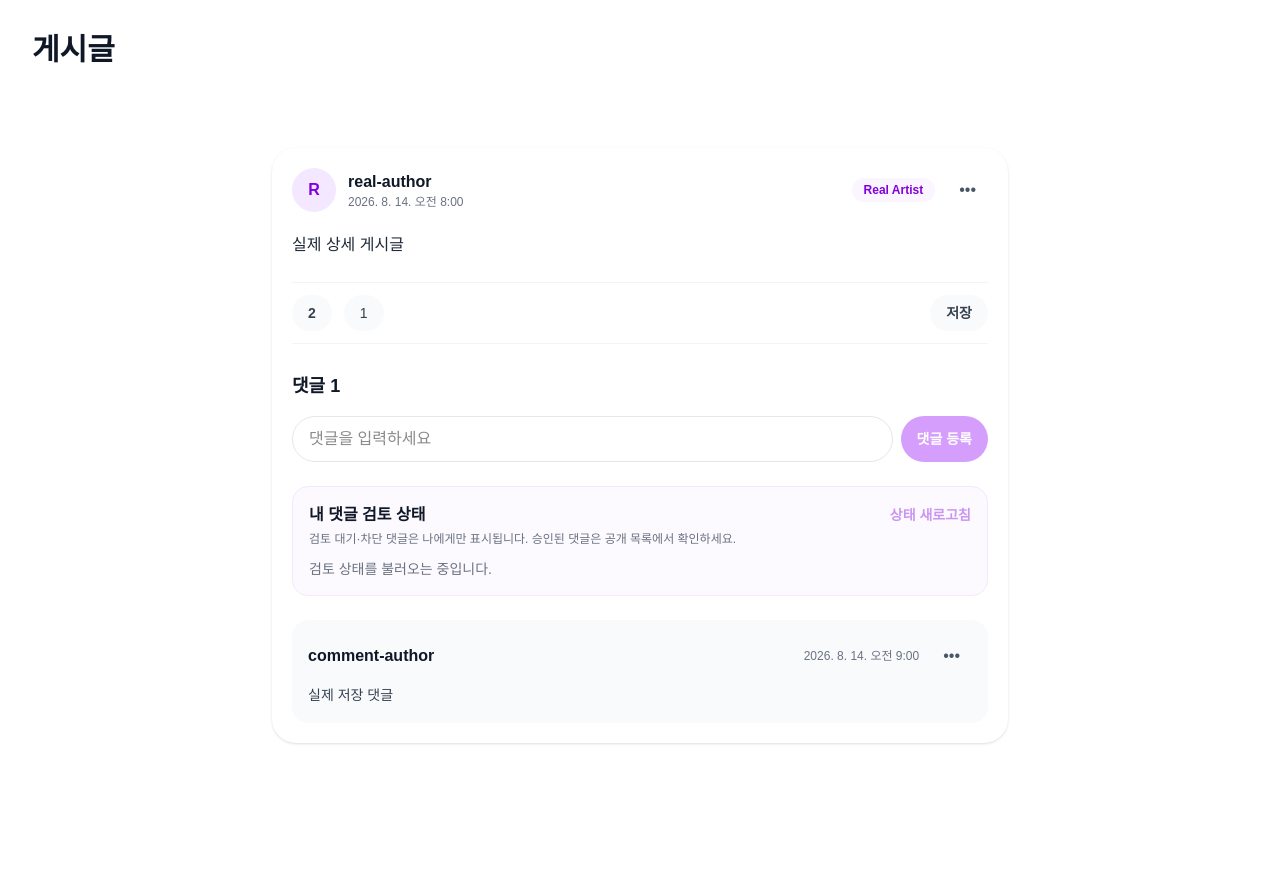
PostDetailPage › preserves previous post and draft when moderation rejected
Expected: the text "실제 상세 게시글" is shown, [292,236,404,253]
Click the heading named "게시글 작업" at (968, 190), box [959,181,976,198]
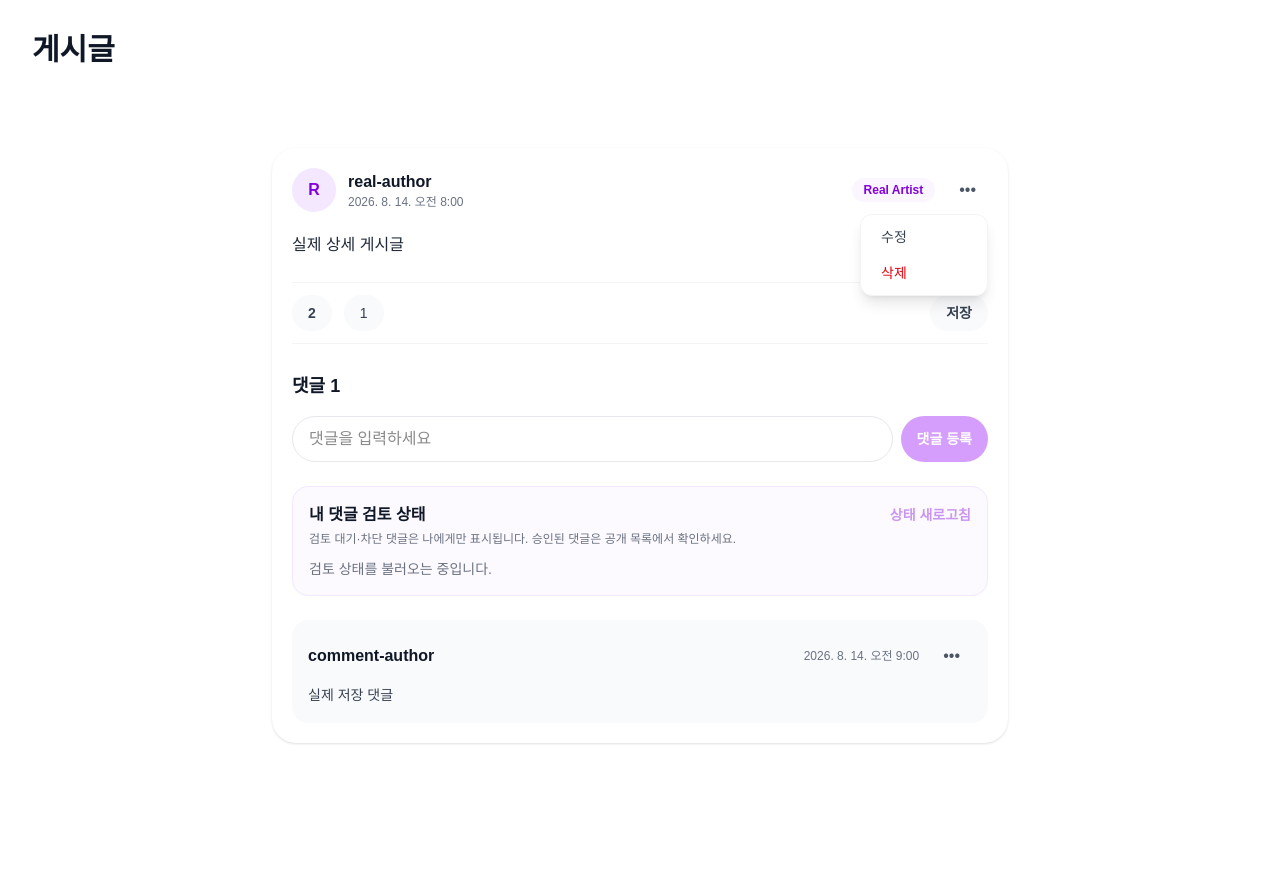
Click the button "수정" at (924, 237), box [865,219,983,255]
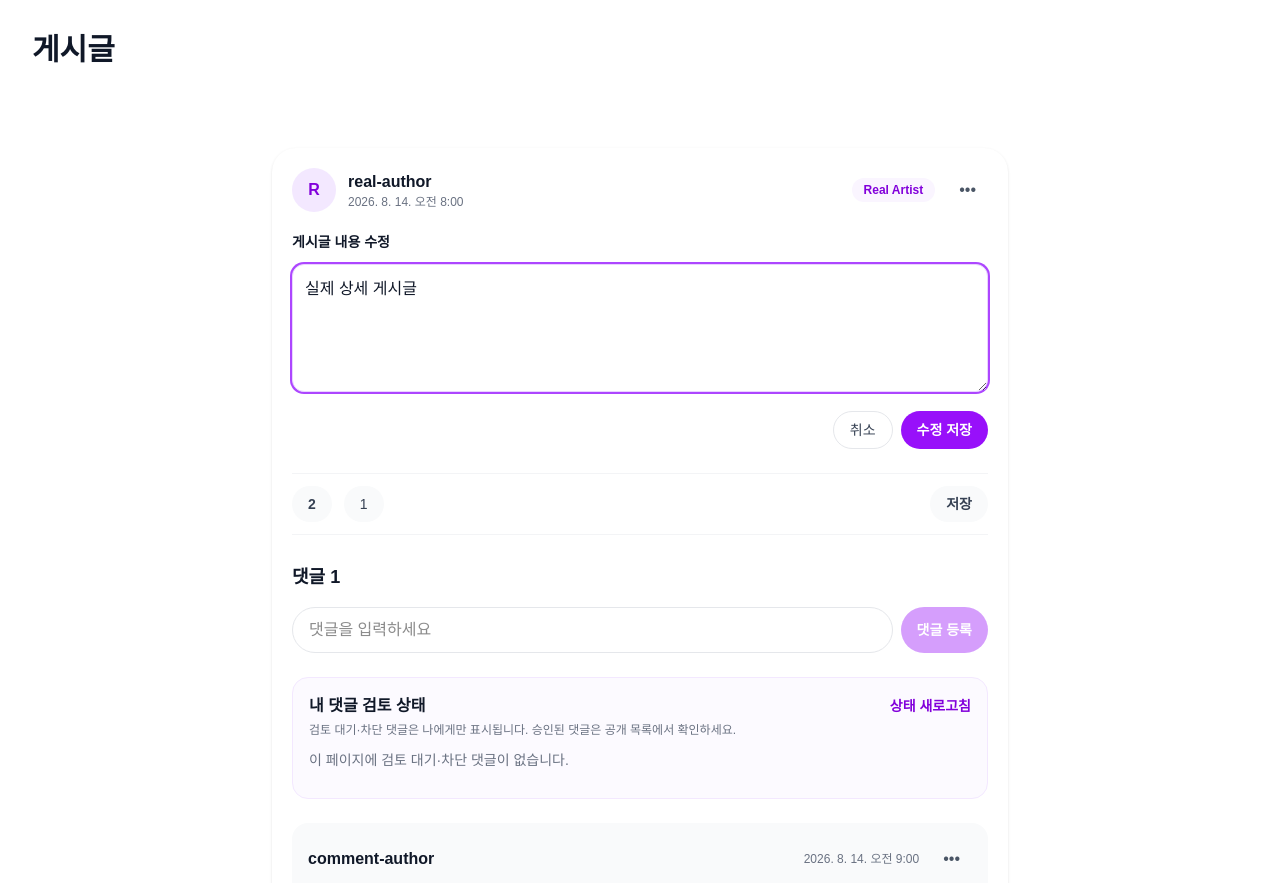
Replace the text in the text box labelled "게시글 내용 수정" with "거부된 수정" at (640, 328), box [292,264,988,392]
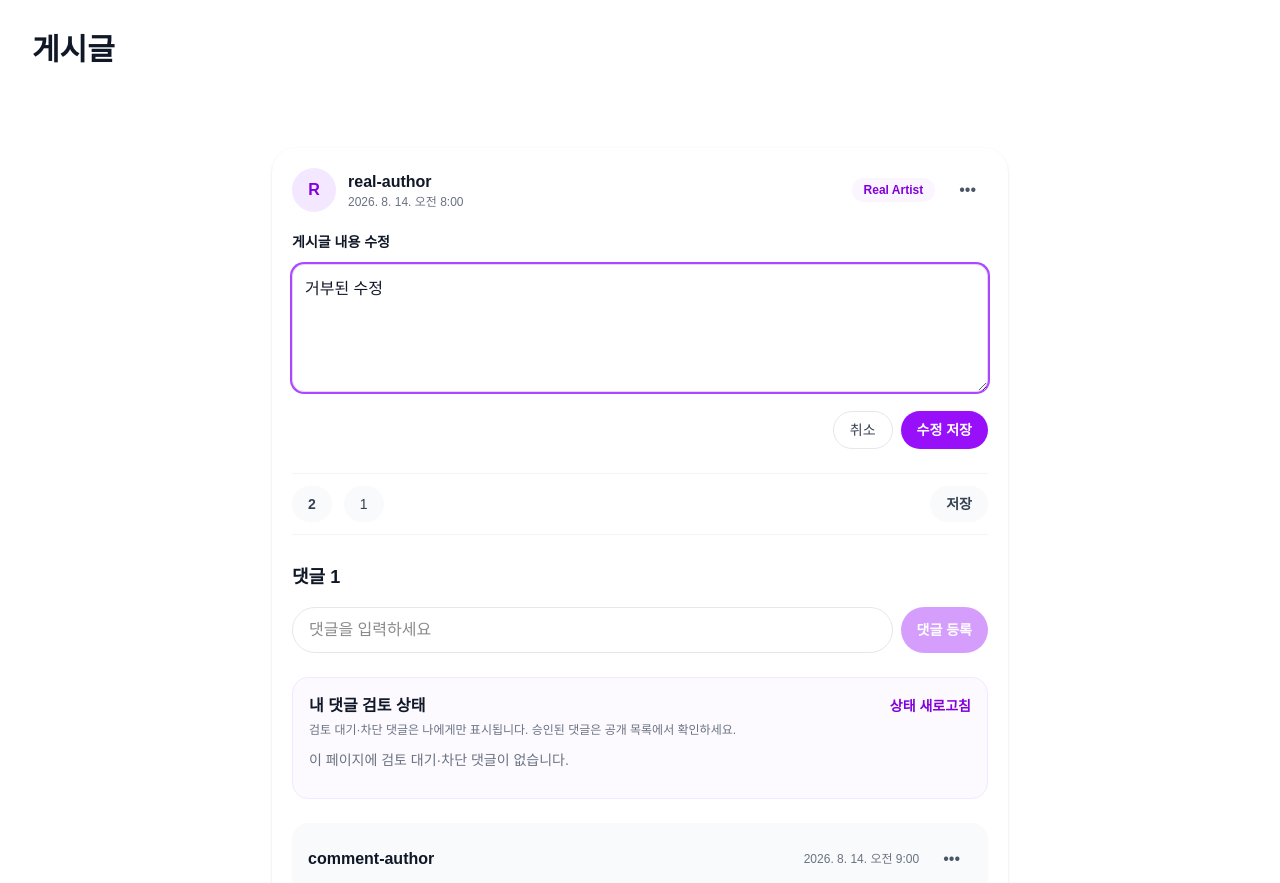
Click the button "수정 저장" at (944, 430), box [901,411,988,449]
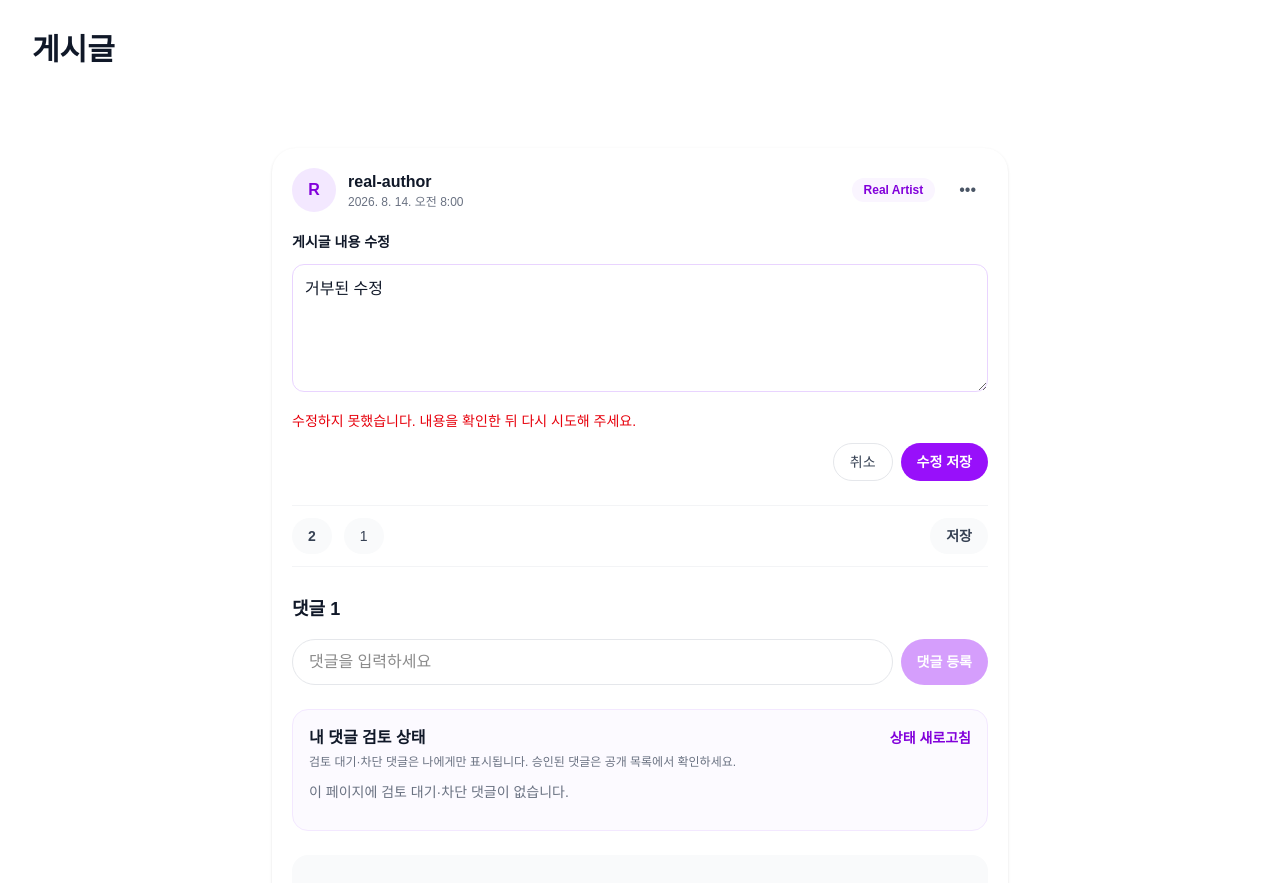
Now the message shows "수정하지 못했습니다.", box [292,413,636,429]
Click the button "취소" at (863, 462), box [833,443,893,481]
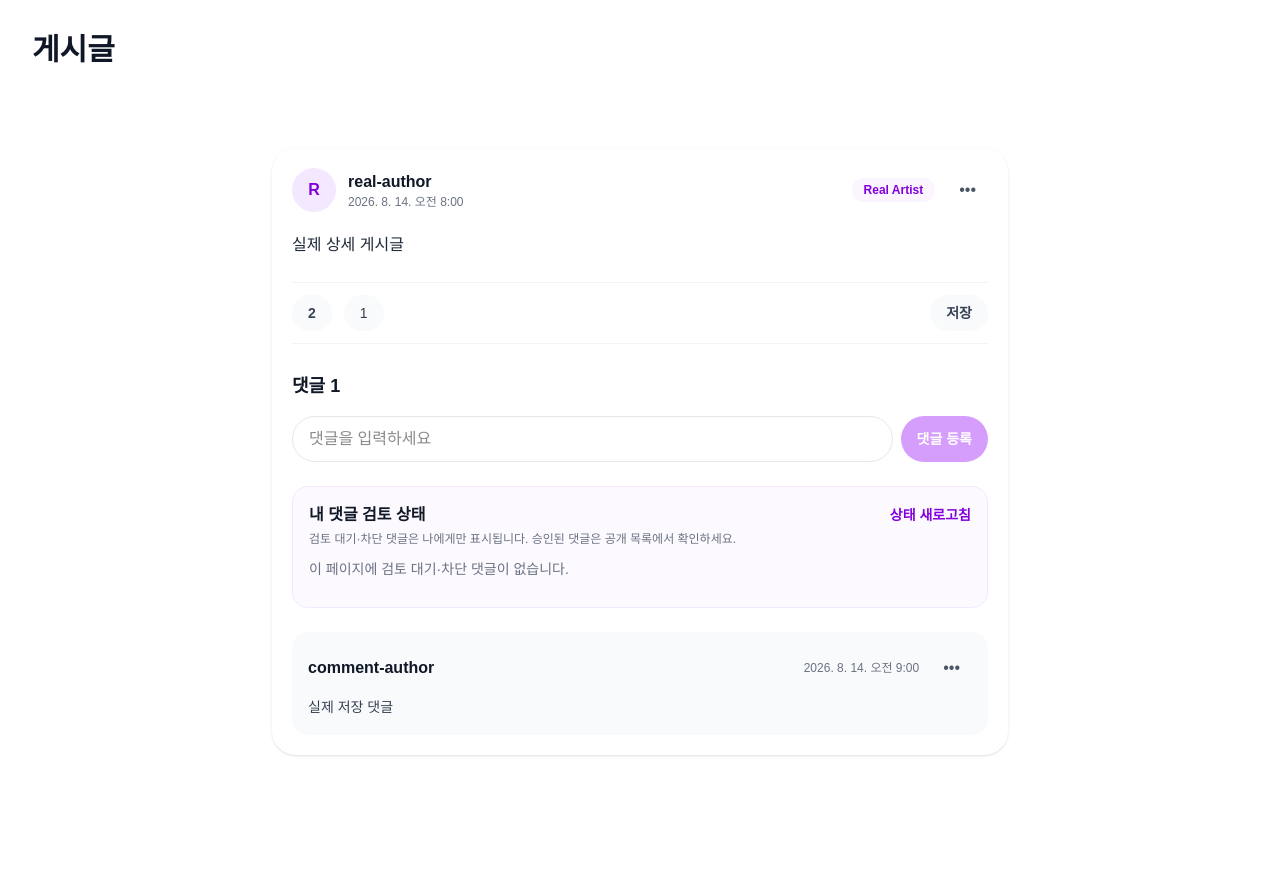
Now the text "실제 상세 게시글" is shown, box [292,236,404,253]
